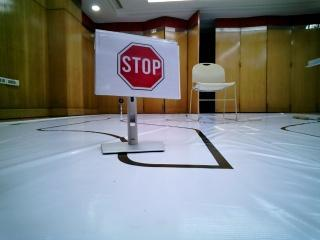stop: (97, 37, 176, 91)
